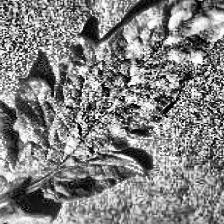leaf mold: (0, 0, 224, 208)
